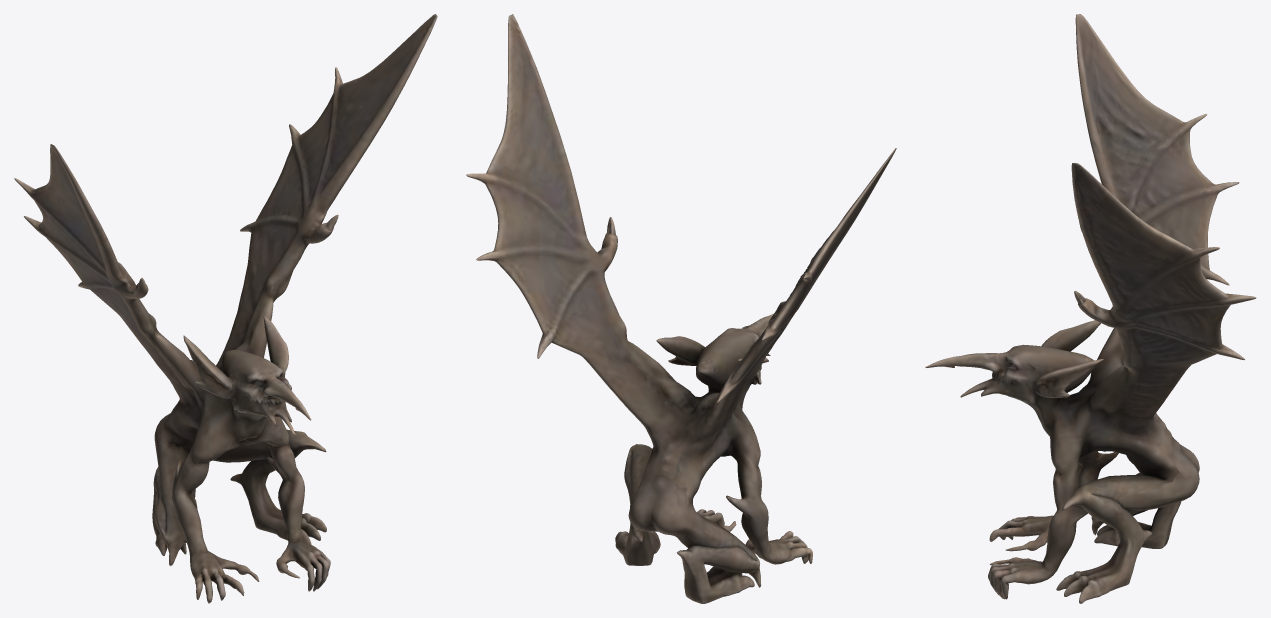
File: MZ4250 - Mud Mephit_1 2025.glb
The picture shows the model from 3 angles, left to right: view 1: azimuth 30°, elevation 25°; view 2: azimuth 150°, elevation 25°; view 3: azimuth 270°, elevation 25°; orthographic projection.
Visible parts, largest first — view 1: Cylinder.001; view 2: Cylinder.001; view 3: Cylinder.001.
Part boxes in pixels (bbox=[...]): Cylinder.001: bbox=[14, 14, 437, 603]; Cylinder.001: bbox=[466, 14, 896, 603]; Cylinder.001: bbox=[925, 14, 1256, 603].
Size of the model in its own units: 83.5 by 106 by 62.39.
1 material, 1 textured.
